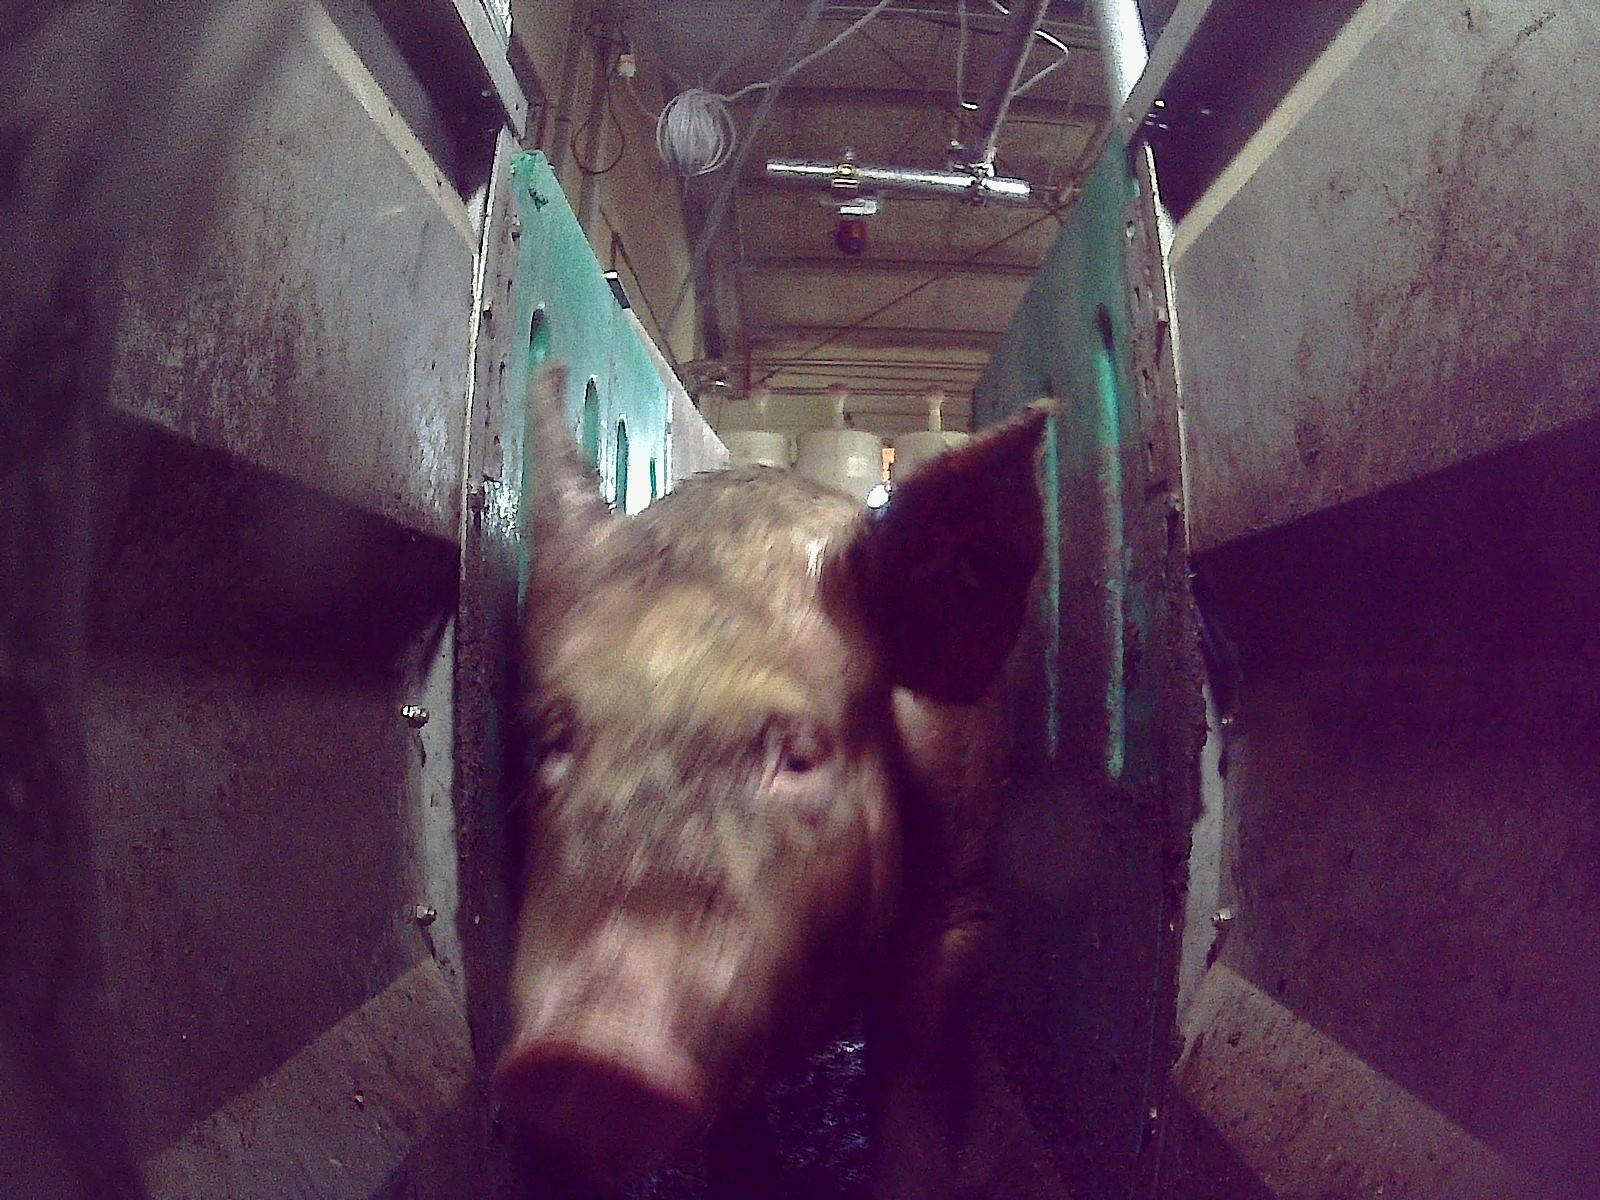Face: (488, 566, 912, 1175)
